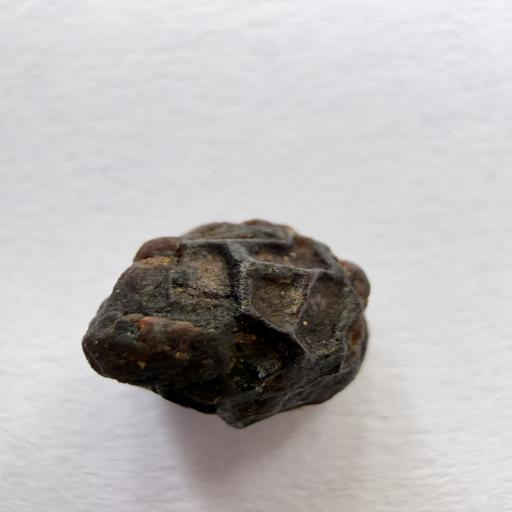Black_pepper: (64, 194, 370, 440)
